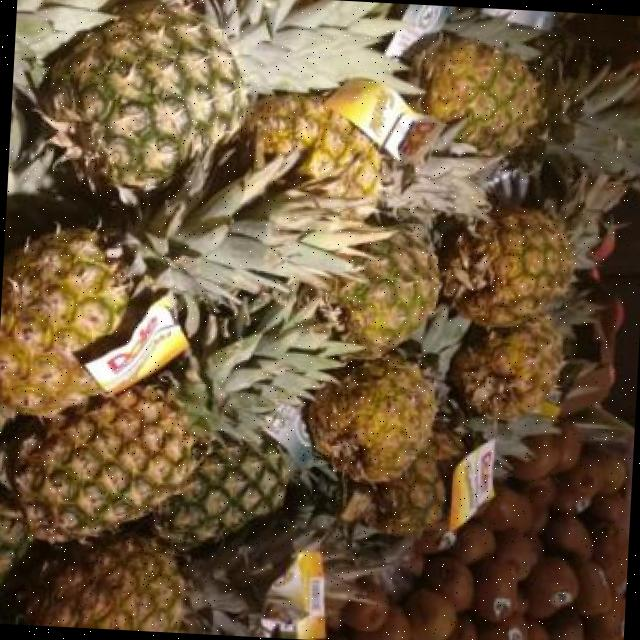pineapple: (0, 141, 391, 416), (7, 301, 355, 541), (38, 0, 244, 185), (0, 512, 294, 637), (407, 35, 640, 175), (375, 404, 558, 531), (206, 0, 420, 94), (307, 357, 436, 481), (440, 209, 573, 327), (152, 436, 291, 548), (330, 227, 437, 357), (247, 98, 382, 197), (449, 318, 561, 420), (383, 156, 496, 218), (409, 305, 470, 378)
